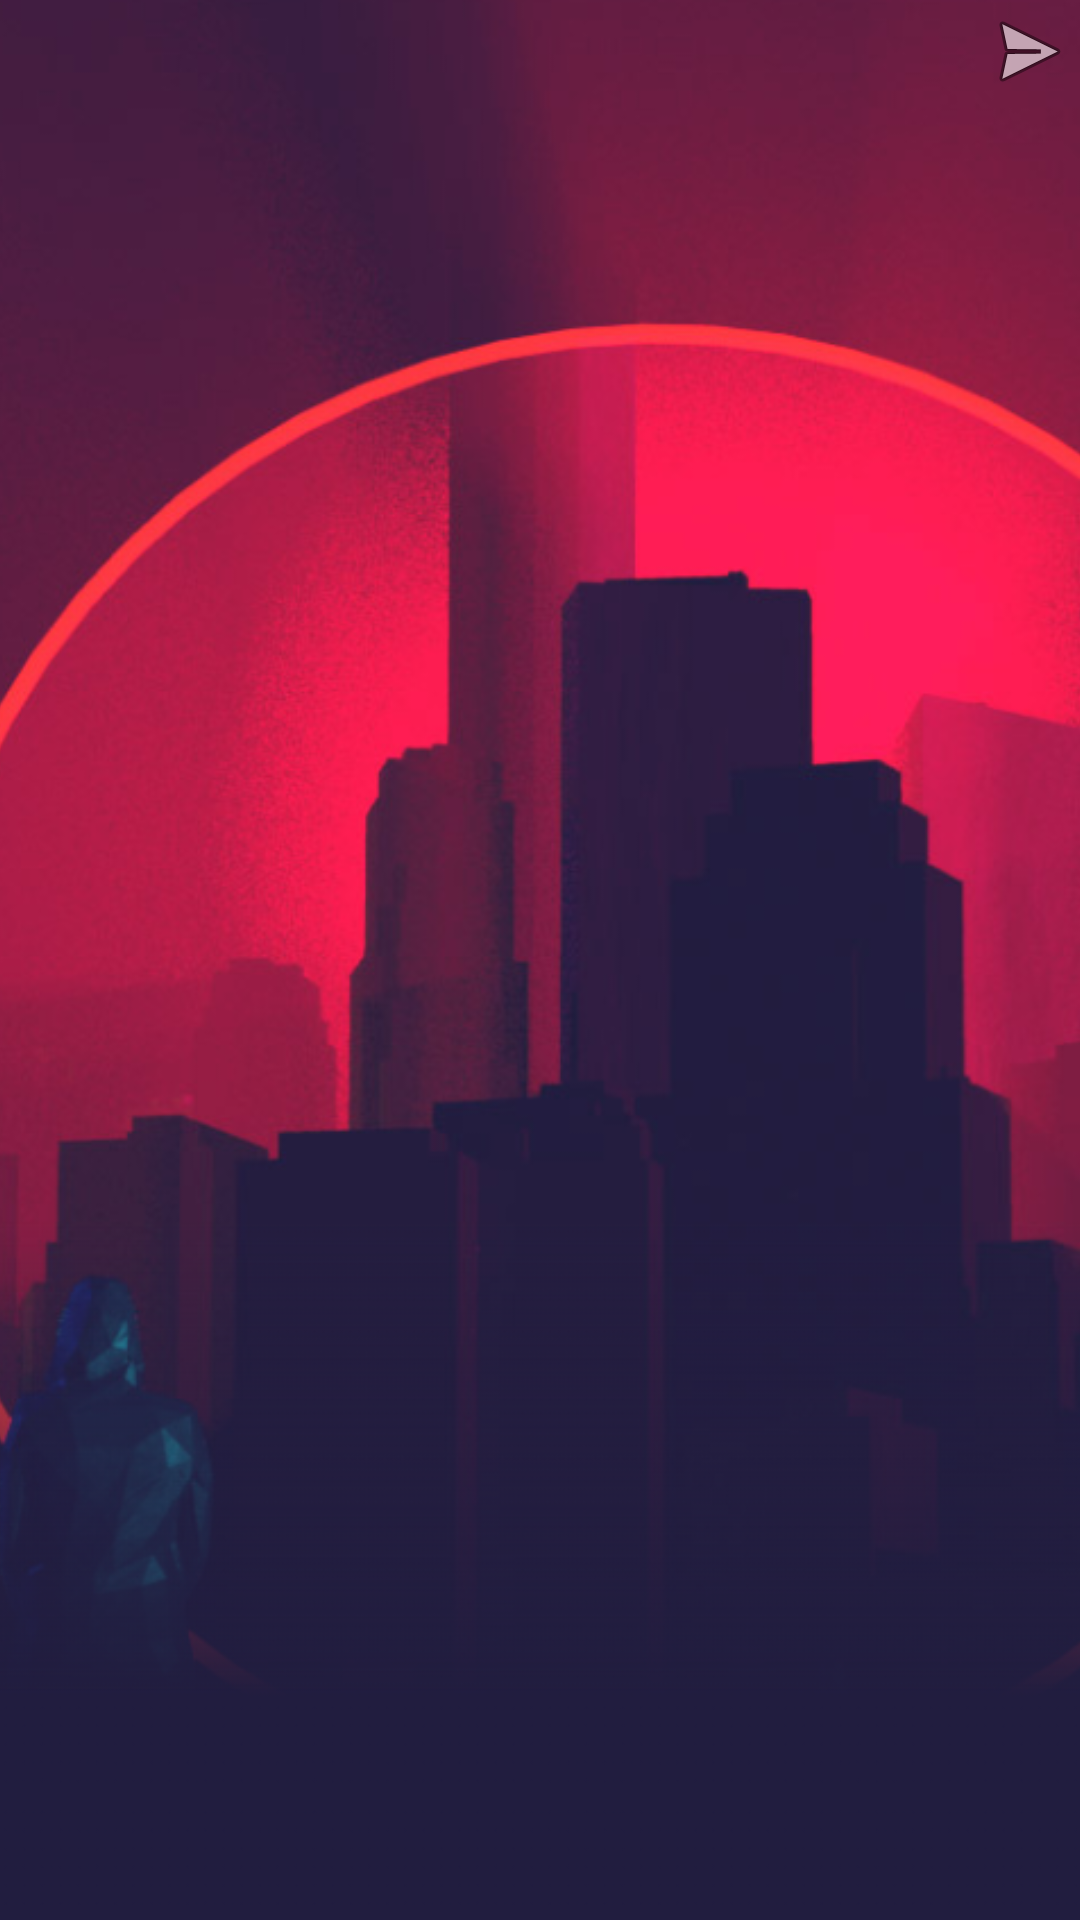

Where to tap for icons on this 1080px x 1920px app screen, as point (x, y):
дальше: point (1030, 51)
